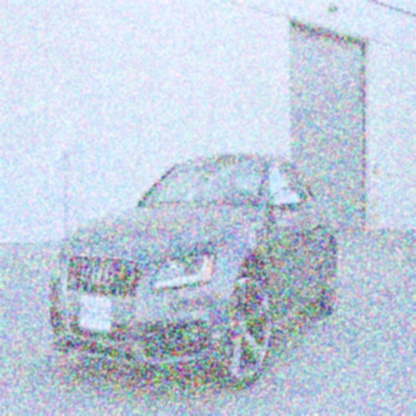Vehicle: (52, 152, 339, 386)
